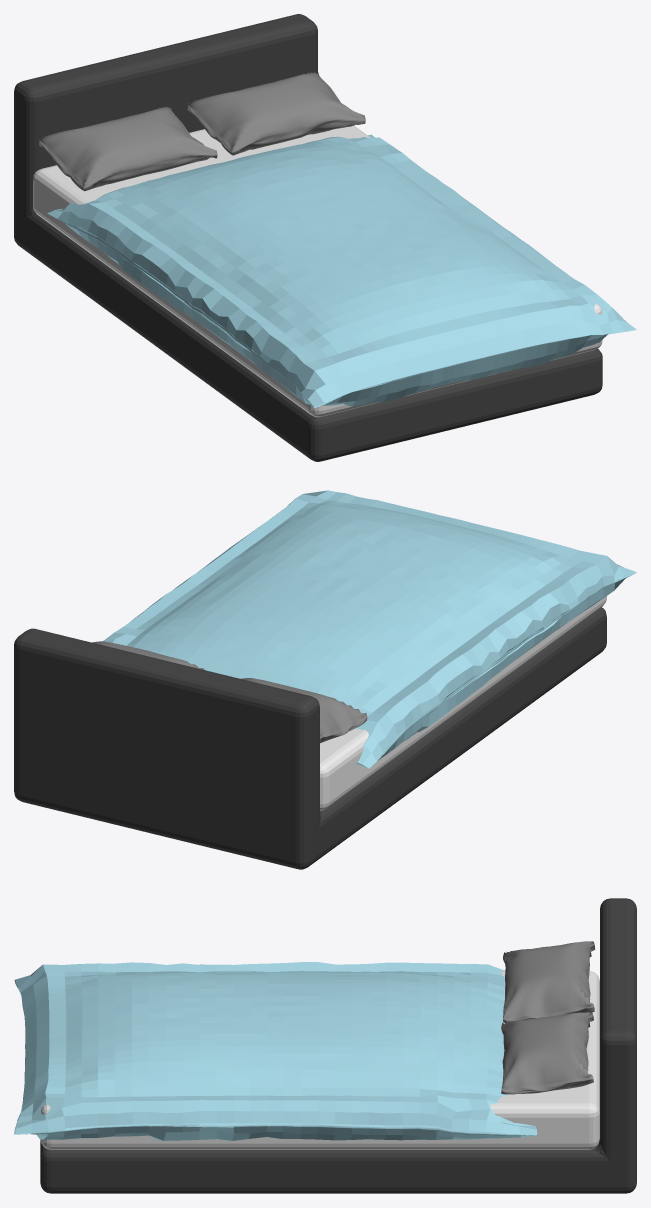
File: camaOtimizada.fbx
3 views of the same model, one above another, from view 1: azimuth 30°, elevation 25°; view 2: azimuth 150°, elevation 25°; view 3: azimuth 270°, elevation 25° (orthographic). The views are drawn at different scales.
Parts seen in each view (by area): view 1: Plano.001; view 2: Plano.001; view 3: Plano.001.
Boxes of the visible parts, bbox=[...] form: Plano.001: bbox=[14, 14, 636, 461]; Plano.001: bbox=[14, 490, 636, 869]; Plano.001: bbox=[14, 898, 636, 1193].
Size of the model in its own units: 260 by 126 by 440.
